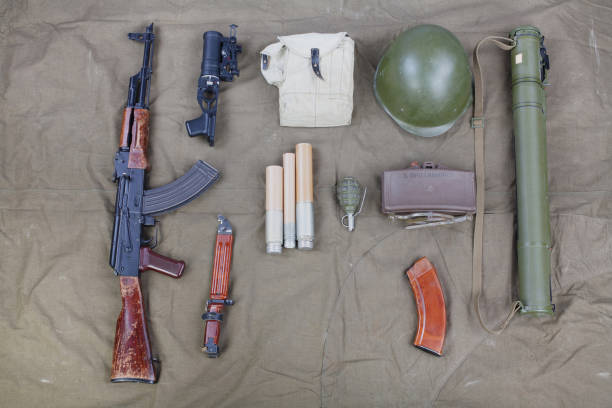e1: (335, 175, 367, 233)
